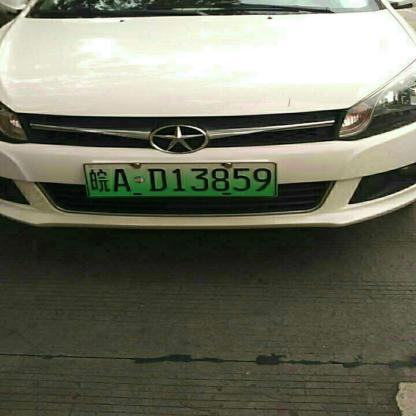lp: (84, 163, 276, 194)
